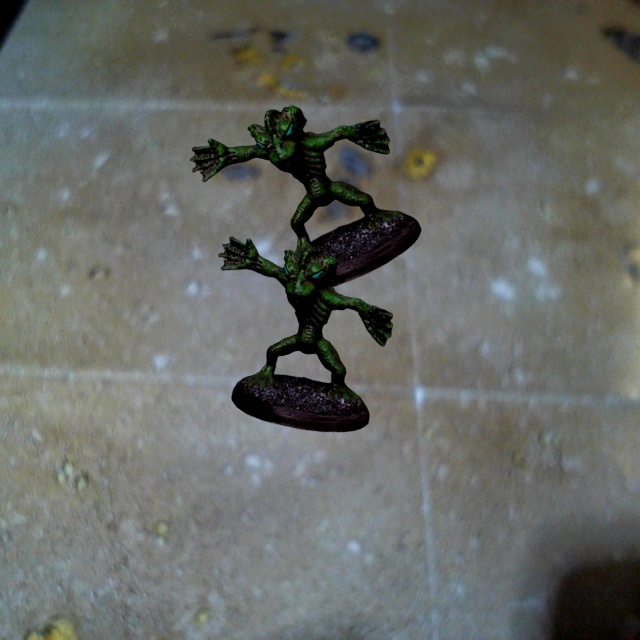pieza_juego: (190, 105, 421, 292), (218, 236, 392, 431)
